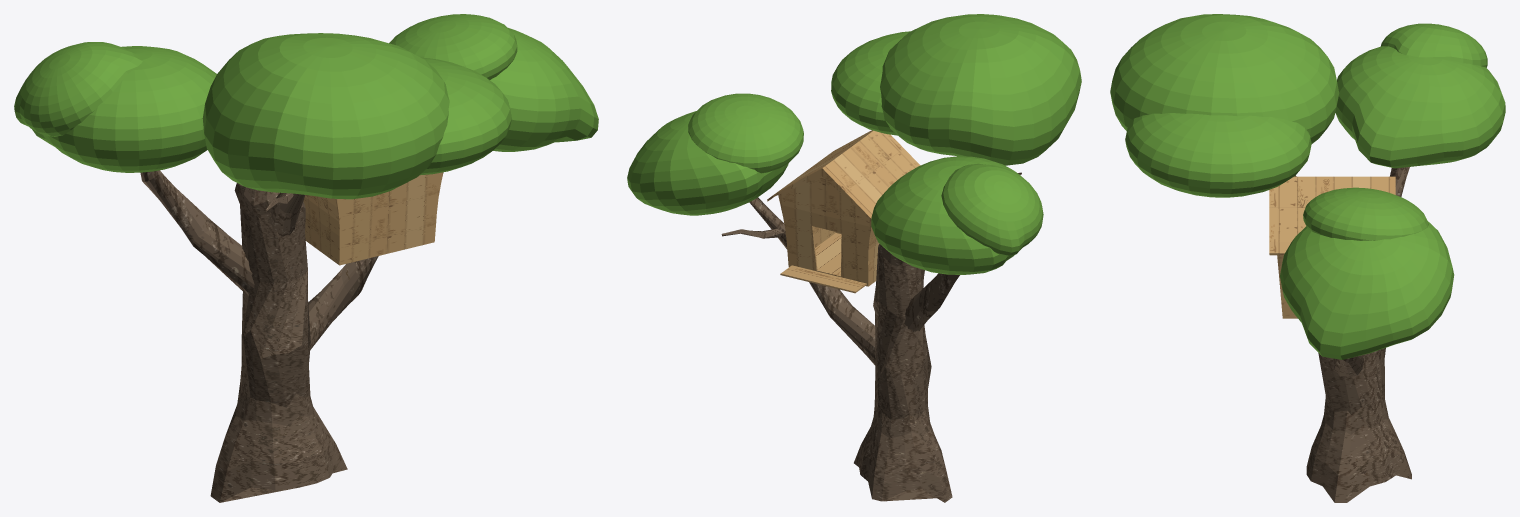
Rendered from treehouse(FixedFinal).fbx.
3 renders of one model, left to right at view 1: azimuth 30°, elevation 25°; view 2: azimuth 150°, elevation 25°; view 3: azimuth 270°, elevation 25°, orthographic. The views are drawn at different scales.
Parts seen in each view (by area): view 1: tree body, TreeHouse; view 2: tree body, TreeHouse, TreeHouse Roof; view 3: tree body, TreeHouse Roof.
Part boxes in pixels (left/top/right/bottom): tree body: left=14, top=14, right=598, bottom=502; TreeHouse: left=303, top=172, right=443, bottom=265; tree body: left=627, top=14, right=1081, bottom=502; TreeHouse: left=778, top=176, right=879, bottom=293; TreeHouse Roof: left=767, top=130, right=920, bottom=220; tree body: left=1110, top=14, right=1505, bottom=502; TreeHouse Roof: left=1269, top=176, right=1395, bottom=255.
Size of the model in its own units: 1990 by 1484 by 1847.
